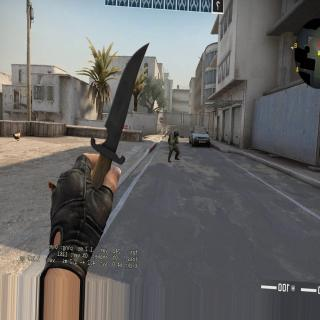CT-Body: (169, 129, 181, 160)
CT-Head: (173, 129, 178, 135)
